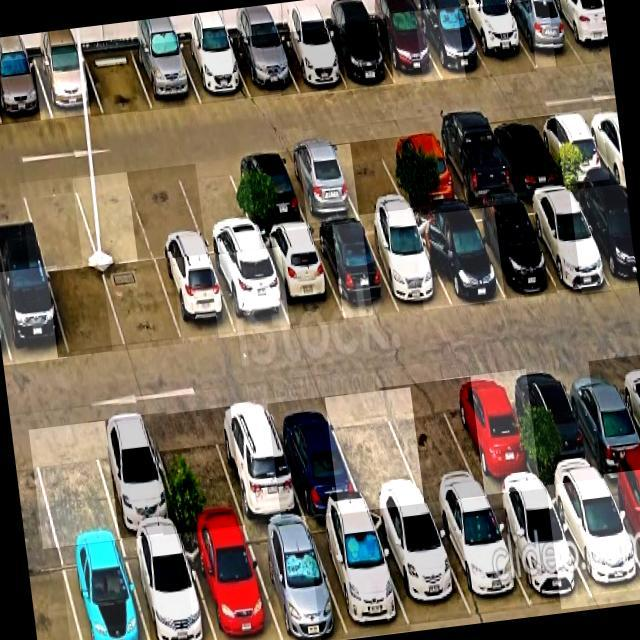empty: (380, 381, 484, 502), (325, 391, 424, 506), (149, 413, 244, 532), (29, 422, 119, 547), (176, 158, 258, 253), (72, 172, 153, 265), (127, 167, 206, 259), (102, 260, 182, 349), (20, 178, 98, 269), (48, 267, 125, 356), (328, 140, 407, 214), (83, 46, 153, 113)
occupied: (307, 511, 411, 639), (243, 521, 347, 640), (428, 496, 531, 615), (487, 489, 592, 605), (369, 506, 471, 623), (442, 373, 540, 494), (546, 478, 640, 604), (209, 400, 304, 524), (182, 527, 282, 640), (89, 416, 181, 538), (267, 398, 362, 515), (510, 365, 602, 485), (123, 533, 215, 640), (518, 191, 612, 290), (560, 361, 640, 477), (464, 203, 556, 298), (413, 211, 505, 306), (60, 541, 148, 640), (311, 221, 398, 318), (259, 228, 343, 328), (362, 216, 451, 309), (156, 255, 237, 341), (209, 249, 290, 334), (570, 186, 637, 287), (0, 268, 68, 364), (431, 125, 514, 203), (227, 152, 307, 231), (281, 146, 358, 222), (380, 133, 460, 205), (487, 117, 563, 191), (458, 4, 536, 76), (501, 0, 583, 68), (534, 112, 609, 184), (369, 11, 441, 84), (415, 9, 489, 79), (321, 20, 394, 88), (131, 42, 201, 109), (178, 39, 250, 104), (274, 29, 346, 92), (34, 52, 102, 118), (230, 34, 297, 97), (548, 0, 610, 63), (0, 57, 51, 124), (604, 471, 640, 563)
